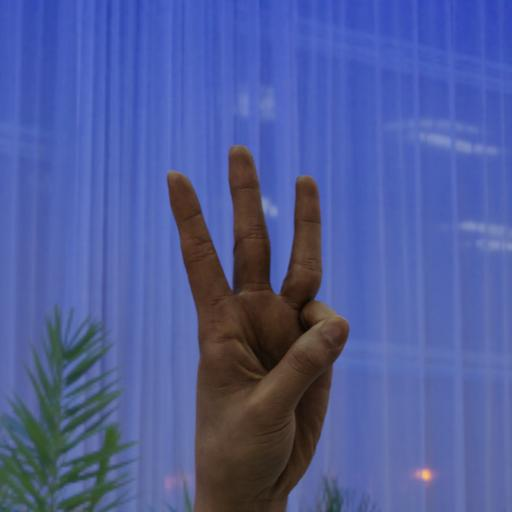W: (155, 137, 355, 512)
